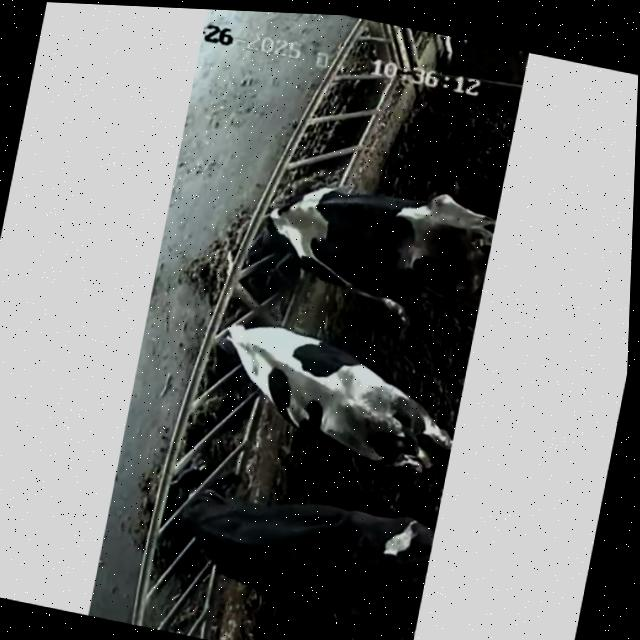eat: (99, 436, 299, 585), (187, 147, 380, 283), (158, 291, 339, 417)
